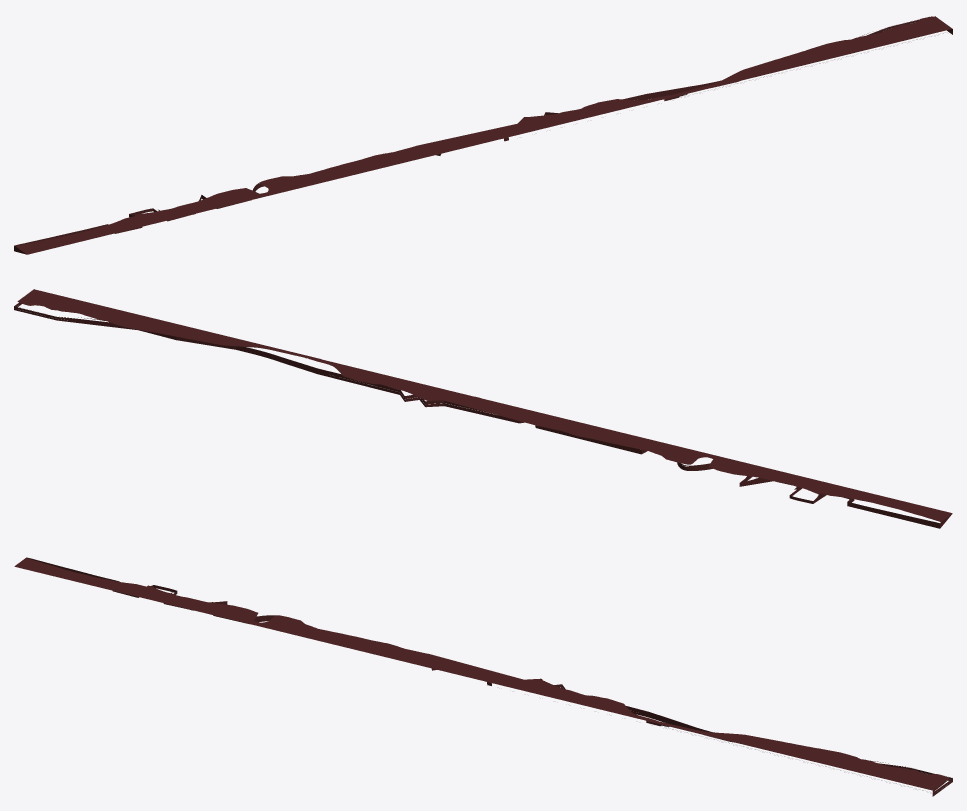
Rendered from land.FBX.
3 views of the same model, one above another, from view 1: azimuth 30°, elevation 25°; view 2: azimuth 150°, elevation 25°; view 3: azimuth 330°, elevation 25° (orthographic).
Parts seen in each view (by area): view 1: Shape1; view 2: Shape1; view 3: Shape1.
Part boxes in pixels (box(x1,y1,x2,y2)): Shape1: box(14, 16, 952, 254); Shape1: box(14, 289, 952, 528); Shape1: box(14, 557, 952, 796).
Size of the model in its own units: 159 by 1 by 6.1.
